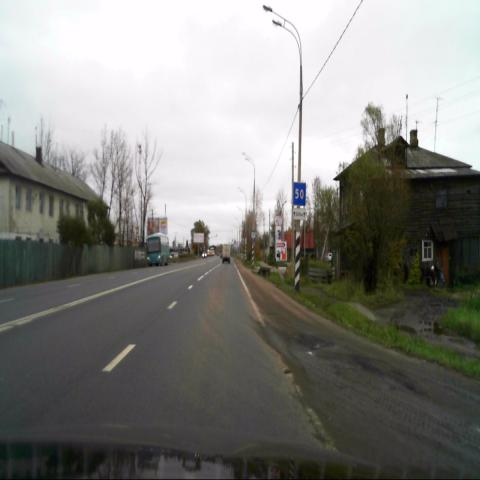6_2: (293, 182, 305, 205)
